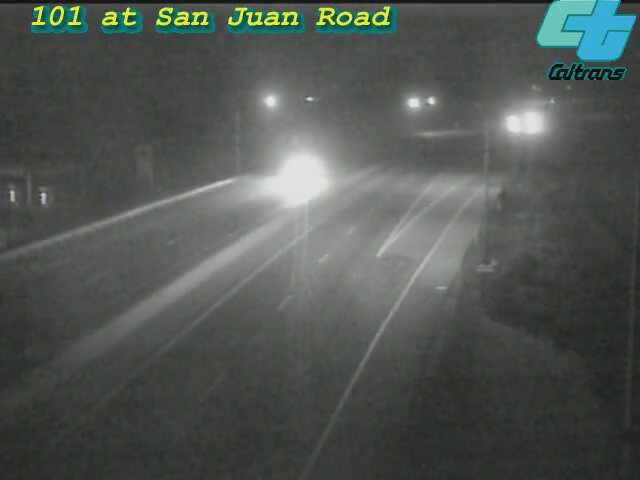vehicle: (255, 133, 335, 213), (505, 106, 555, 156), (488, 98, 538, 148), (507, 96, 557, 146)
